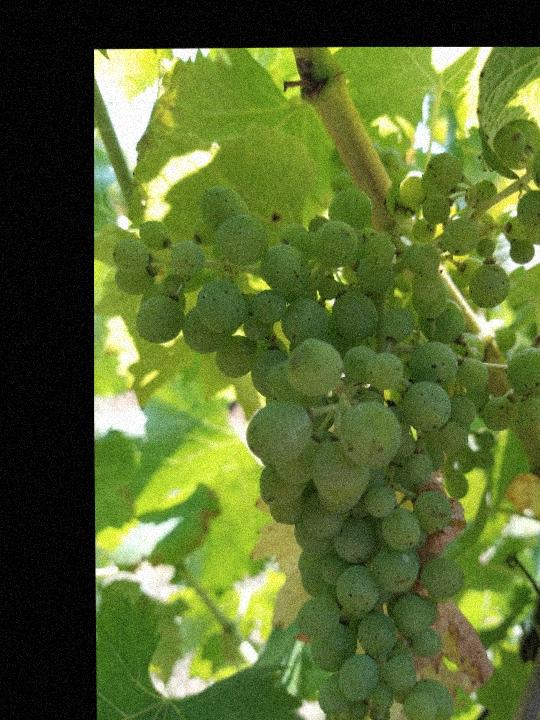grape: (112, 120, 540, 720)
